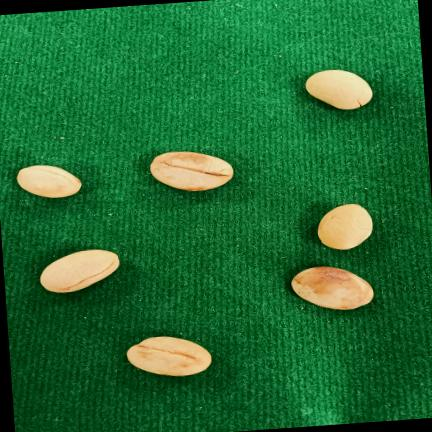parchment: (291, 266, 373, 309), (40, 249, 119, 292), (127, 336, 211, 376), (150, 151, 233, 191), (305, 69, 372, 109), (317, 204, 372, 249), (17, 165, 81, 197)
